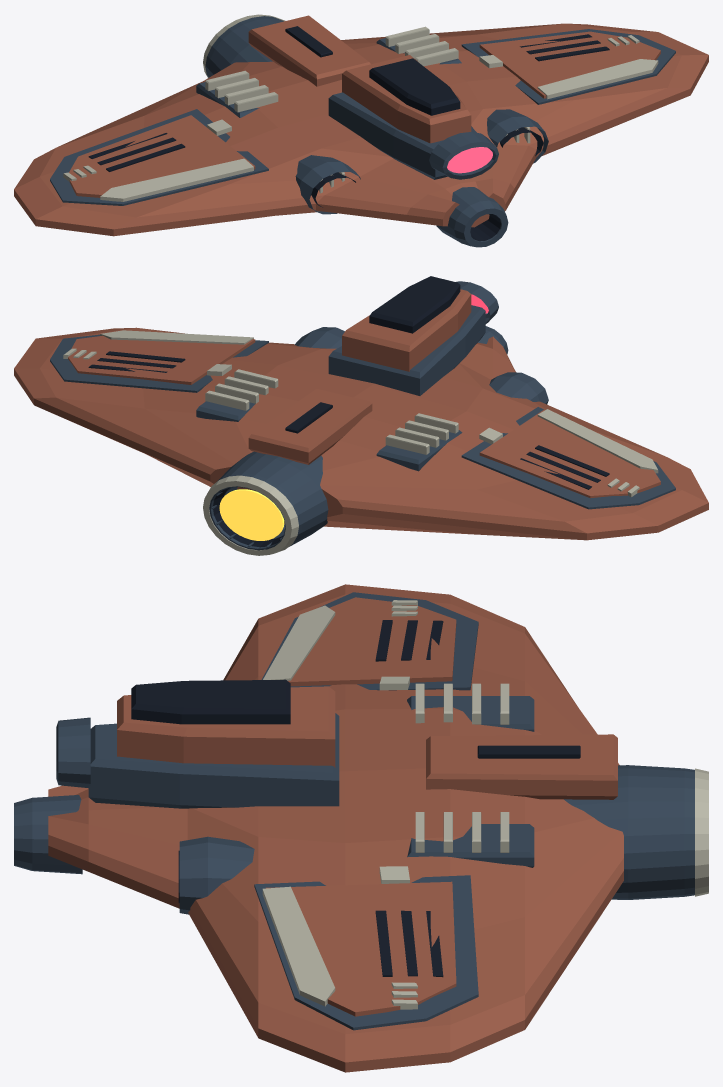
Rendered from drone.glb.
The picture shows the model from 3 angles, top to bottom: view 1: azimuth 30°, elevation 25°; view 2: azimuth 150°, elevation 25°; view 3: azimuth 270°, elevation 25°; orthographic projection. The views are drawn at different scales.
Visible parts, largest first — view 1: body, eye; view 2: body, engine; view 3: body.
Boxes of the visible parts, x1=… form: body: x1=14, y1=14, x2=708, y2=247; eye: x1=447, y1=147, x2=492, y2=173; body: x1=14, y1=276, x2=708, y2=555; engine: x1=219, y1=489, x2=284, y2=540; body: x1=14, y1=584, x2=708, y2=1072.
Size of the model in its own units: 5.6 by 1.13 by 3.44.
